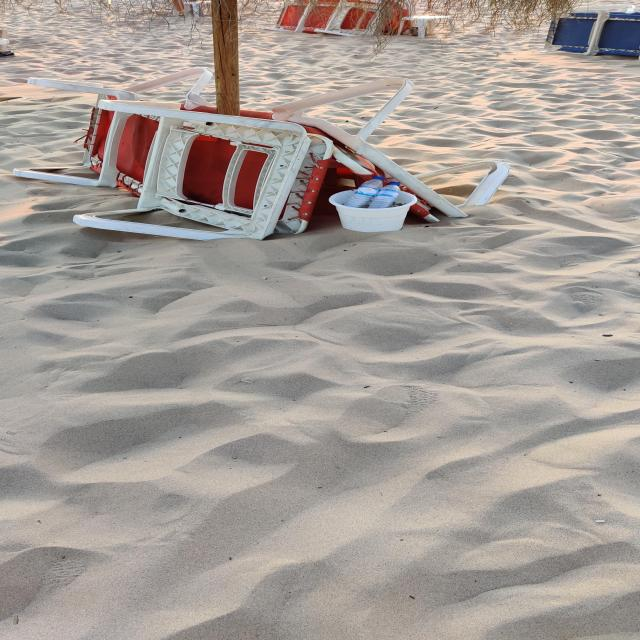litter: (344, 178, 382, 207), (368, 182, 401, 209), (387, 182, 400, 186), (373, 176, 385, 179)
